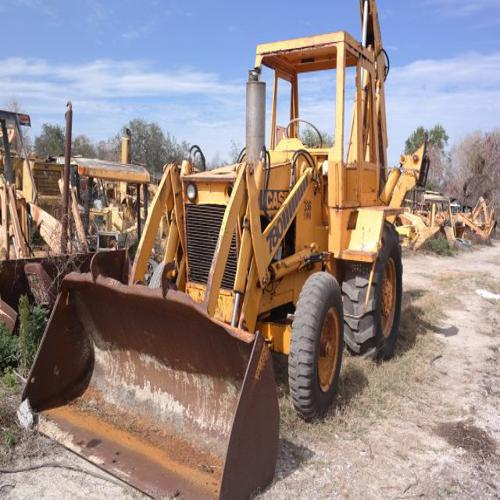con_eq: (16, 31, 405, 497), (1, 105, 146, 309), (383, 142, 492, 251)
